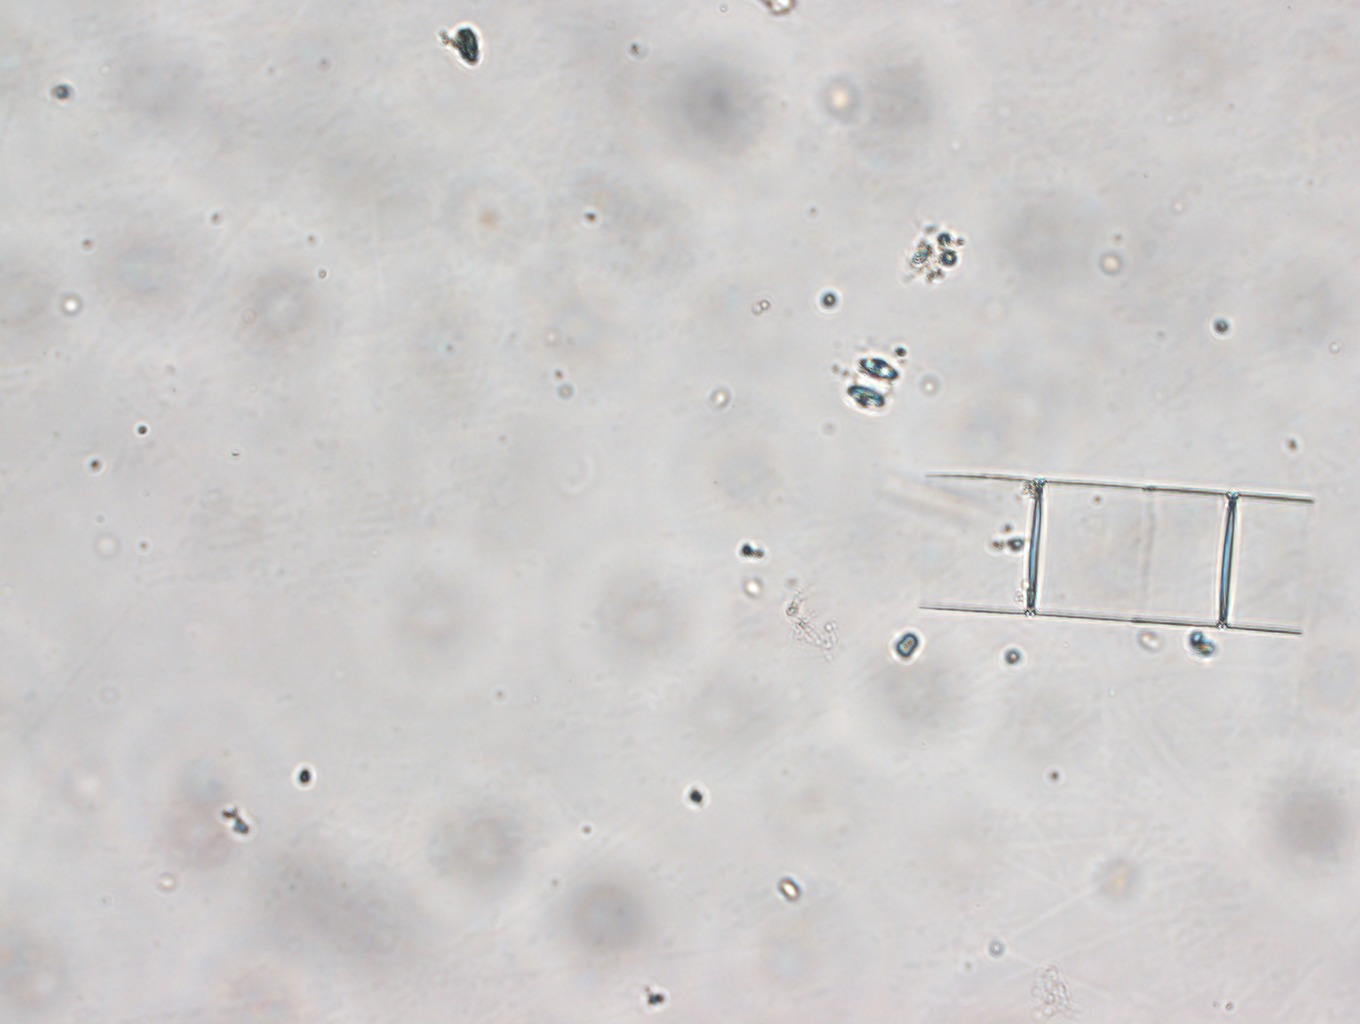guinardia flaccida: (919, 468, 1317, 636)
